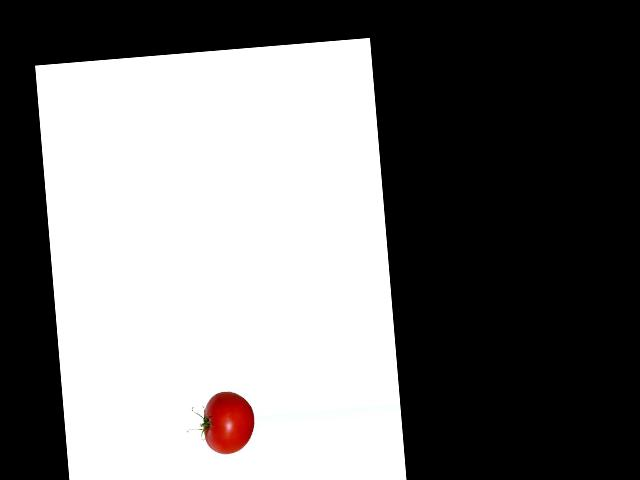tomato: (200, 390, 257, 456)
